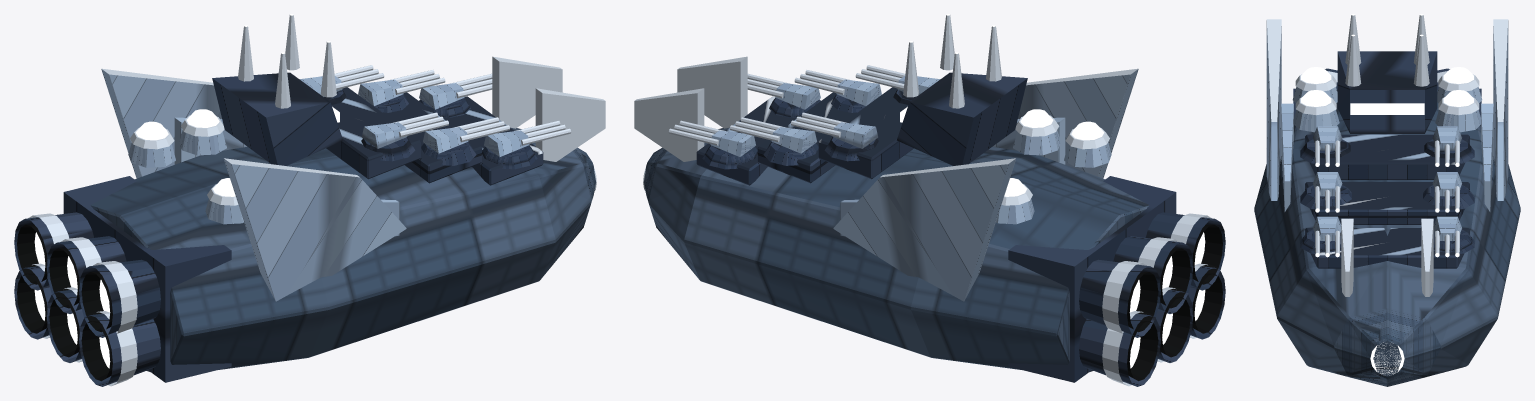
File: dreadnought.glb
3 views of the same model, side by side, from view 1: azimuth 30°, elevation 25°; view 2: azimuth 150°, elevation 25°; view 3: azimuth 270°, elevation 25° (orthographic). The views are drawn at different scales.
Visible parts, largest first — view 1: hull_body, engine_block, weapon_turrets, sensor_tower, shield_domes; view 2: hull_body, engine_block, weapon_turrets, sensor_tower, shield_domes; view 3: hull_body, weapon_turrets, sensor_tower, shield_domes, engine_block.
Boxes of the visible parts, bbox=[...] form: hull_body: bbox=[90, 56, 605, 371]; engine_block: bbox=[14, 176, 231, 386]; weapon_turrets: bbox=[299, 65, 596, 191]; sensor_tower: bbox=[212, 14, 342, 165]; shield_domes: bbox=[128, 109, 243, 224]; hull_body: bbox=[634, 56, 1149, 371]; engine_block: bbox=[1008, 176, 1225, 386]; weapon_turrets: bbox=[643, 65, 940, 191]; sensor_tower: bbox=[897, 14, 1027, 165]; shield_domes: bbox=[996, 109, 1111, 224]; hull_body: bbox=[1254, 19, 1520, 386]; weapon_turrets: bbox=[1300, 126, 1474, 375]; sensor_tower: bbox=[1337, 14, 1437, 133]; shield_domes: bbox=[1292, 67, 1482, 132]; engine_block: bbox=[1293, 68, 1481, 125].
Size of the model in its own units: 80 by 43.77 by 38.08.
1 material, 1 textured.
